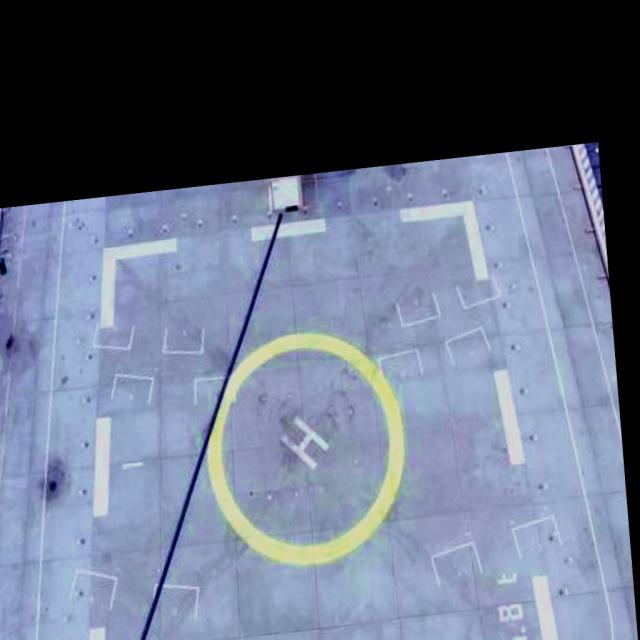helipad: (202, 326, 409, 570)
